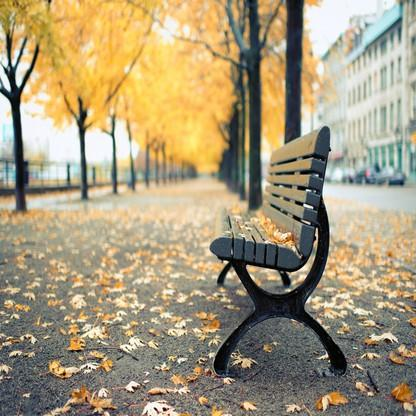obstacle: (208, 116, 341, 387)
